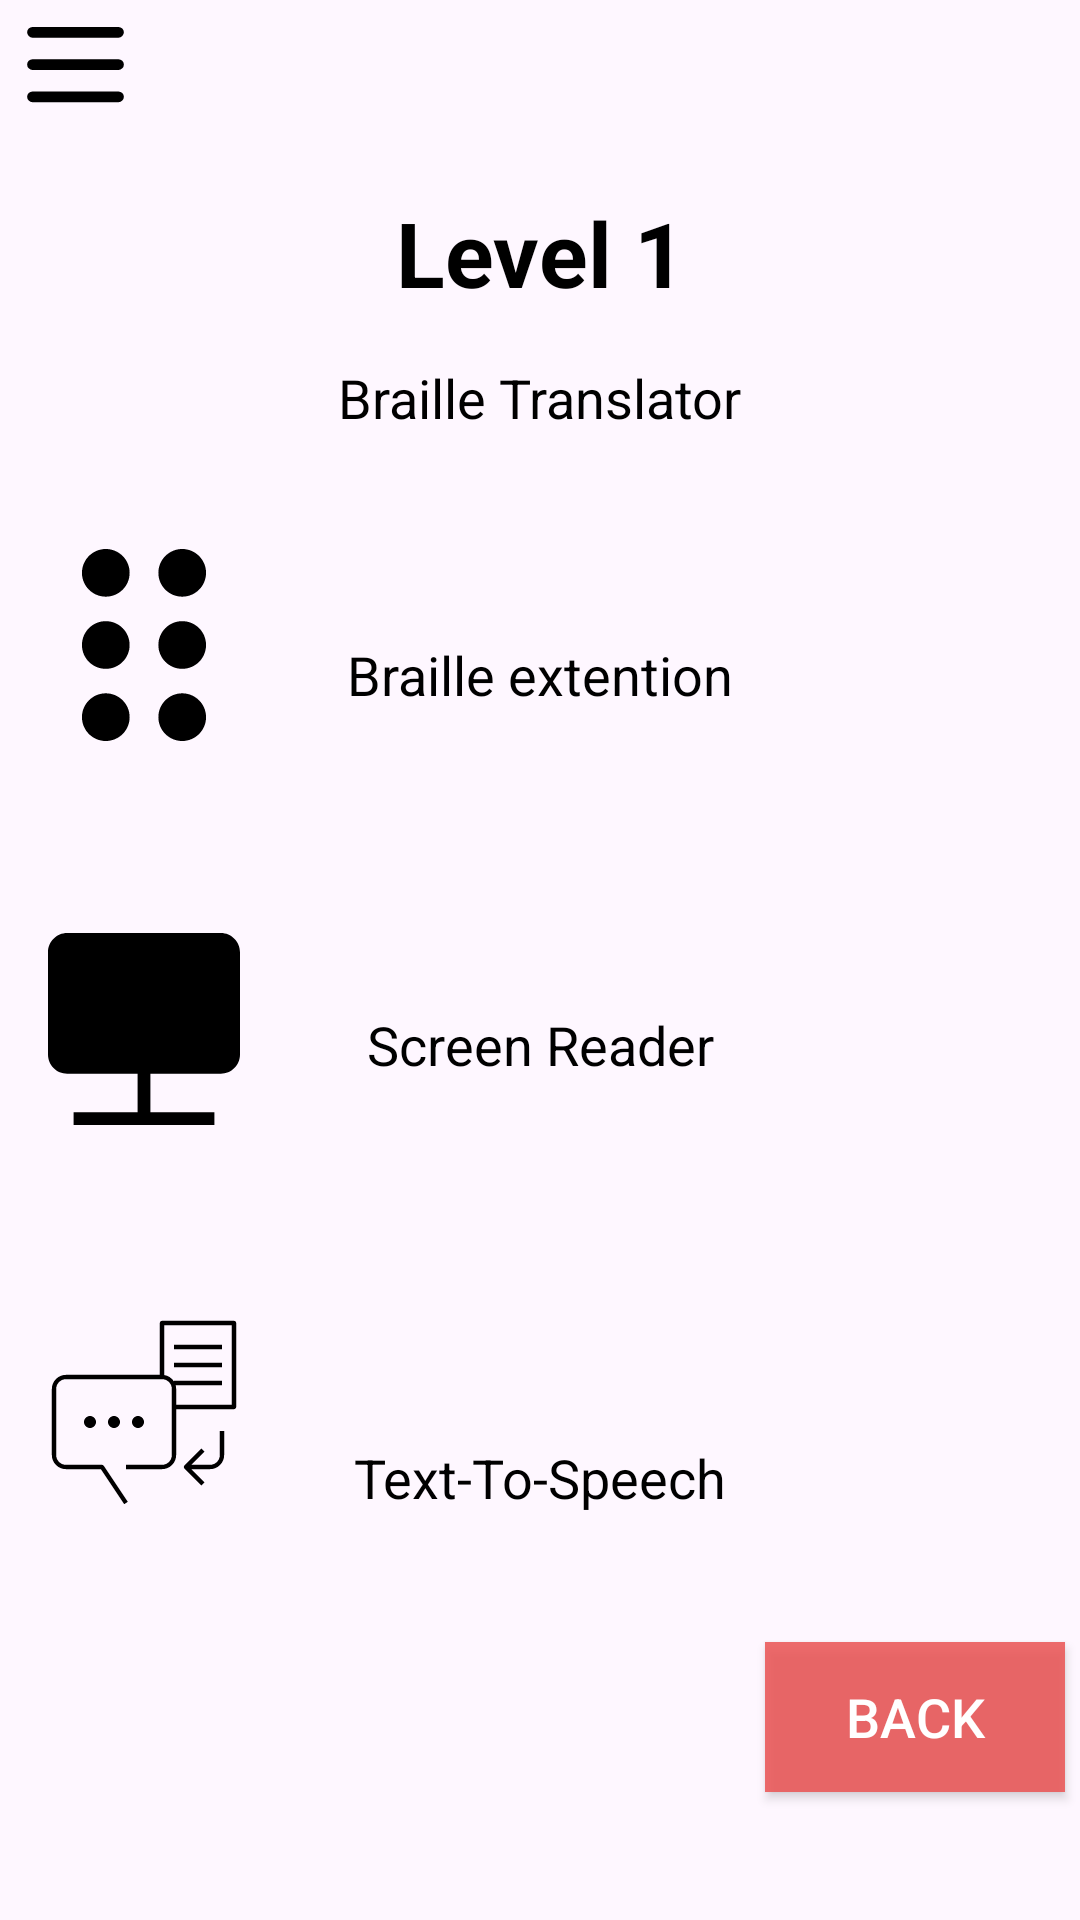

Where to tap for icons on this 1080 x 1920 app screen, as (x,y):
menu: (75,65)
